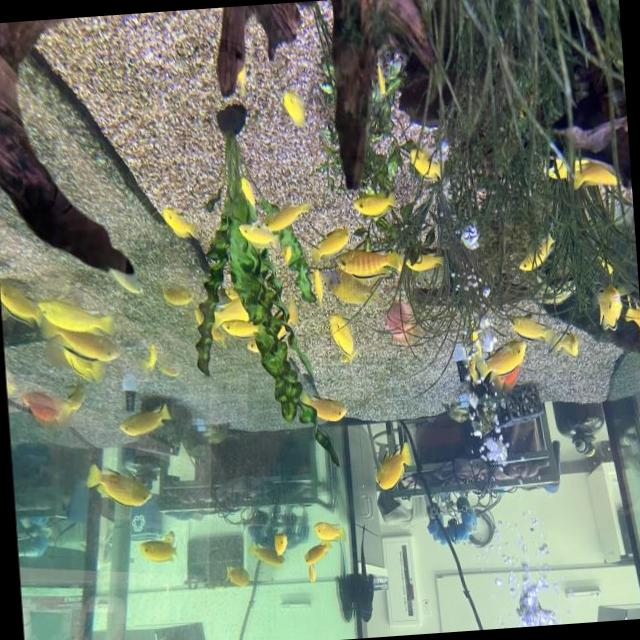YellowCichlid: (77, 458, 155, 517), (363, 442, 426, 500), (115, 398, 178, 442), (36, 288, 98, 329), (462, 345, 530, 380), (581, 275, 623, 331), (319, 311, 358, 366), (0, 270, 34, 333), (566, 160, 622, 197), (156, 197, 200, 244), (57, 328, 117, 362), (334, 250, 401, 278), (512, 236, 560, 272), (278, 76, 310, 130), (404, 142, 444, 182), (220, 172, 258, 212), (511, 302, 544, 348), (64, 355, 102, 394), (309, 390, 352, 423), (219, 557, 255, 596), (549, 326, 588, 361), (160, 276, 192, 318), (352, 189, 398, 218), (246, 542, 284, 576), (306, 222, 351, 248), (129, 543, 179, 565), (312, 511, 345, 542), (260, 205, 302, 229), (210, 294, 246, 322), (238, 226, 270, 253), (300, 536, 329, 564), (406, 252, 440, 274), (369, 58, 388, 96), (623, 292, 640, 331), (58, 392, 82, 418), (163, 360, 185, 388), (310, 270, 328, 304), (542, 154, 564, 180), (219, 322, 253, 338), (300, 562, 318, 590), (234, 62, 249, 93), (244, 340, 262, 359), (143, 340, 157, 364), (163, 524, 176, 540)
